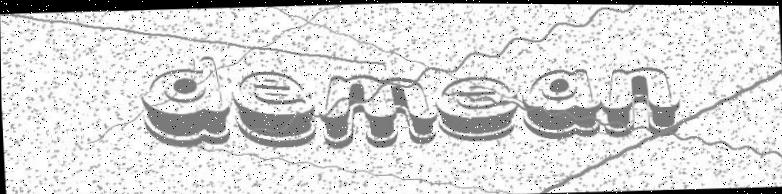a: (521, 67, 603, 139)
d: (141, 54, 233, 147)
e: (230, 69, 317, 148), (435, 74, 519, 142)
m: (317, 71, 439, 149)
n: (599, 64, 682, 137)
